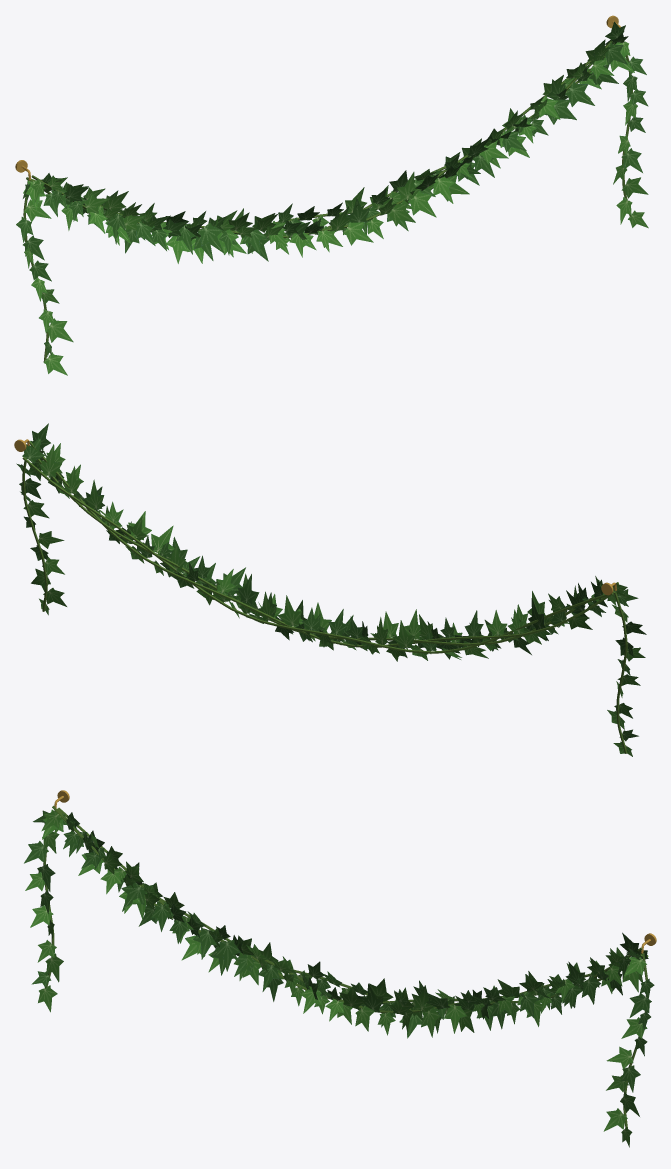
File: ivy-garland.glb
The picture shows the model from 3 angles, top to bottom: view 1: azimuth 30°, elevation 25°; view 2: azimuth 150°, elevation 25°; view 3: azimuth 330°, elevation 25°; orthographic projection.
Visible parts, largest first — view 1: Ivy_Garland; view 2: Ivy_Garland; view 3: Ivy_Garland.
Boxes of the visible parts, left/top/right/bottom form: Ivy_Garland: left=15, top=15, right=648, bottom=375; Ivy_Garland: left=14, top=423, right=646, bottom=756; Ivy_Garland: left=24, top=790, right=656, bottom=1147.
Bounding box in the file's own units: 1.63 × 0.5312 × 0.1416.
Materials: 4 (2 with a texture image).
